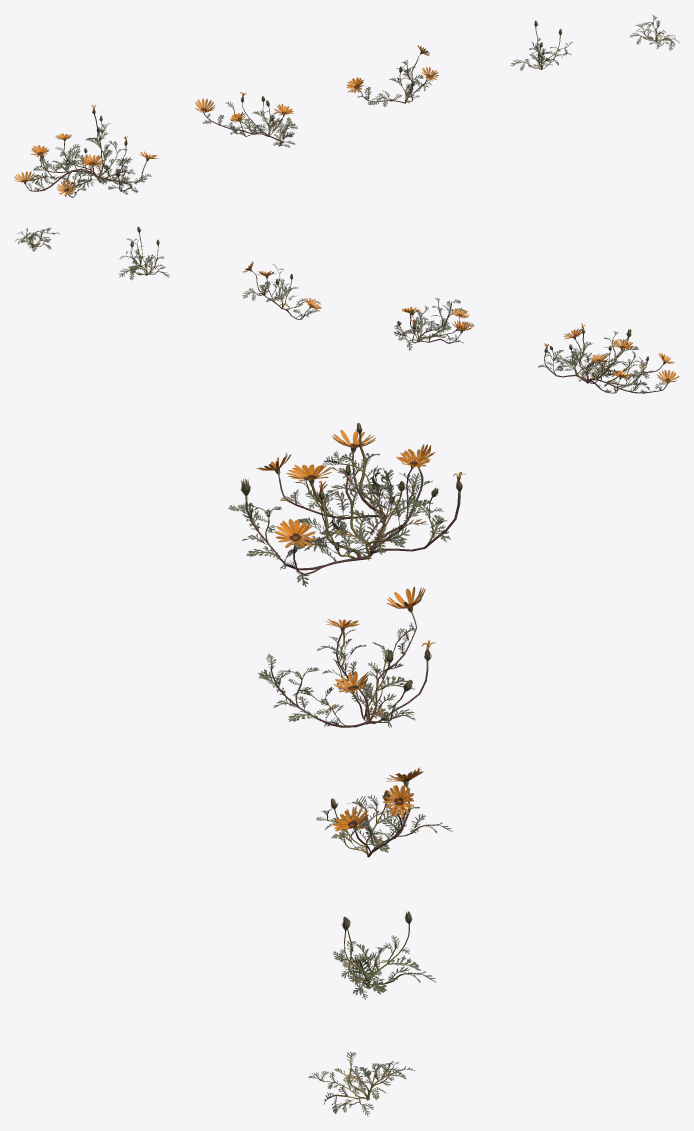
The model's file is polyhaven-flower-ursinia.glb.
3 views of the same model, one above another, from view 1: azimuth 30°, elevation 25°; view 2: azimuth 150°, elevation 25°; view 3: azimuth 270°, elevation 25° (orthographic). The views are drawn at different scales.
Parts seen in each view (by area): view 1: flower_ursinia_a_LOD0_0, flower_ursinia_b_LOD0_0, flower_ursinia_c_LOD0_0, flower_ursinia_d_LOD0_0, flower_ursinia_e_LOD0_0; view 2: flower_ursinia_a_LOD0_0, flower_ursinia_b_LOD0_0, flower_ursinia_c_LOD0_0, flower_ursinia_d_LOD0_0, flower_ursinia_e_LOD0_0; view 3: flower_ursinia_a_LOD0_0, flower_ursinia_b_LOD0_0, flower_ursinia_c_LOD0_0, flower_ursinia_d_LOD0_0, flower_ursinia_e_LOD0_0.
Boxes of the visible parts, <box> form: flower_ursinia_a_LOD0_0: <box>14,104,159,197</box>; flower_ursinia_b_LOD0_0: <box>195,92,297,147</box>; flower_ursinia_c_LOD0_0: <box>346,45,438,106</box>; flower_ursinia_d_LOD0_0: <box>511,20,572,70</box>; flower_ursinia_e_LOD0_0: <box>630,15,679,50</box>; flower_ursinia_a_LOD0_0: <box>538,323,679,393</box>; flower_ursinia_b_LOD0_0: <box>394,298,474,350</box>; flower_ursinia_c_LOD0_0: <box>242,261,321,319</box>; flower_ursinia_d_LOD0_0: <box>118,227,169,280</box>; flower_ursinia_e_LOD0_0: <box>14,228,59,251</box>; flower_ursinia_a_LOD0_0: <box>228,423,465,586</box>; flower_ursinia_b_LOD0_0: <box>258,586,435,727</box>; flower_ursinia_c_LOD0_0: <box>316,767,452,857</box>; flower_ursinia_d_LOD0_0: <box>332,911,436,999</box>; flower_ursinia_e_LOD0_0: <box>308,1052,415,1116</box>.
Bounding box in the file's own units: 2.19 × 0.1718 × 0.3433.
Materials: 1 (1 with a texture image).
